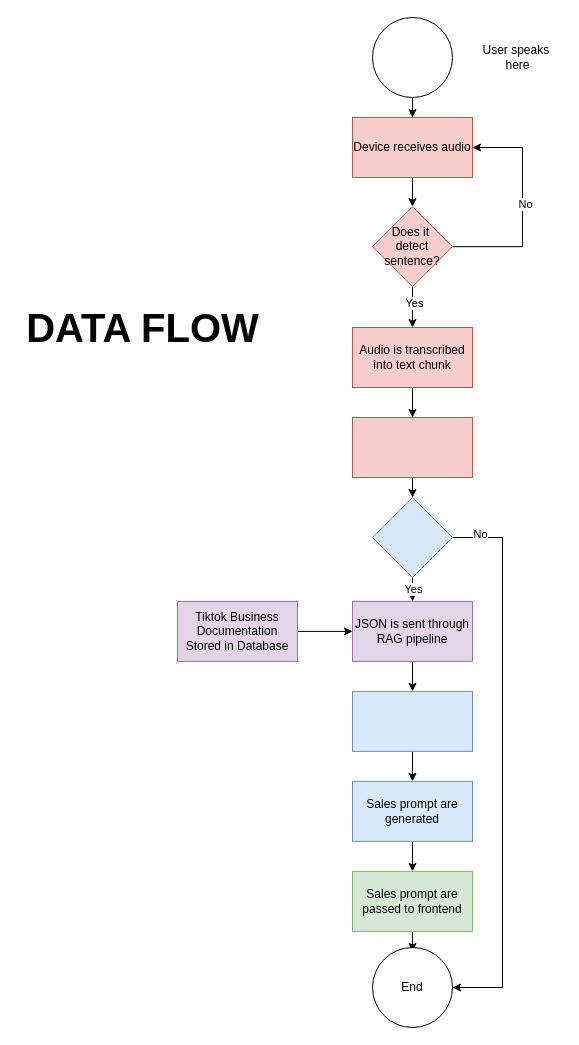
Some shapes in this 579 by 1045 pixel diagram are drawn without their labels. The box of each missing label's shape, as (x1, y1, x2, y2) in pixels:
Do I need a sales suggestion?: (372, 496, 452, 578)
Output is passed through OpenAI's Prompt engineering to deliver outputs: (352, 690, 472, 751)
Start: (372, 16, 452, 98)
Update working memory: (352, 416, 472, 478)
